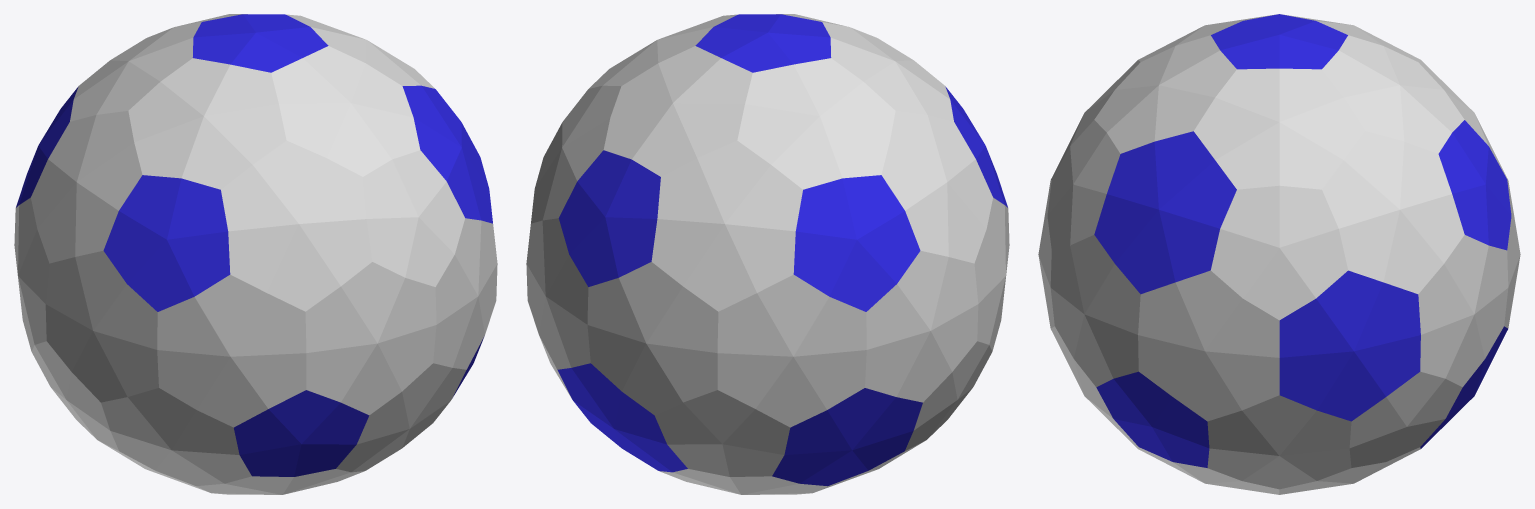
The model's file is Ball.fbx.
3 renders of one model, left to right at view 1: azimuth 30°, elevation 25°; view 2: azimuth 150°, elevation 25°; view 3: azimuth 270°, elevation 25°, orthographic.
Visible parts, largest first — view 1: Icosphere; view 2: Icosphere; view 3: Icosphere.
Part boxes in pixels (bbox=[...]): Icosphere: bbox=[14, 14, 497, 494]; Icosphere: bbox=[526, 14, 1009, 494]; Icosphere: bbox=[1038, 14, 1520, 494].
Size of the model in its own units: 185 by 186 by 185.
